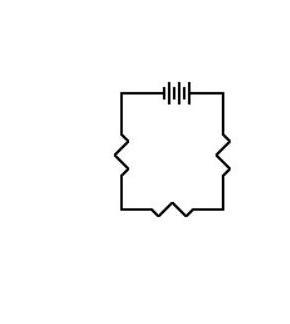resistor: (201, 117, 249, 188), (109, 118, 145, 190), (135, 193, 204, 220)
